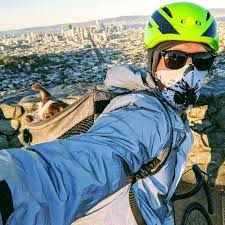mask: (157, 41, 211, 106)
